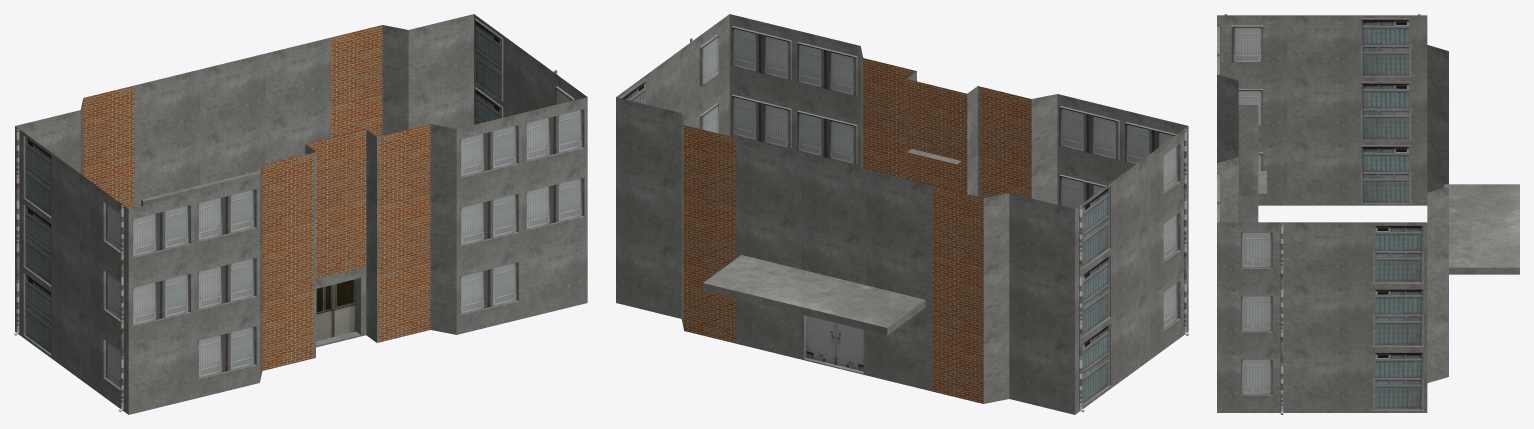
File: PostOffice.fbx
3 views of the same model, side by side, from view 1: azimuth 30°, elevation 25°; view 2: azimuth 150°, elevation 25°; view 3: azimuth 270°, elevation 25° (orthographic). The views are drawn at different scales.
Visible parts, largest first — view 1: PostOffice; view 2: PostOffice; view 3: PostOffice.
Part boxes in pixels (x1=…): PostOffice: x1=14, y1=14, x2=587, y2=414; PostOffice: x1=616, y1=14, x2=1188, y2=414; PostOffice: x1=1217, y1=14, x2=1519, y2=414.
Size of the model in its own units: 2367 by 990 by 1426.
